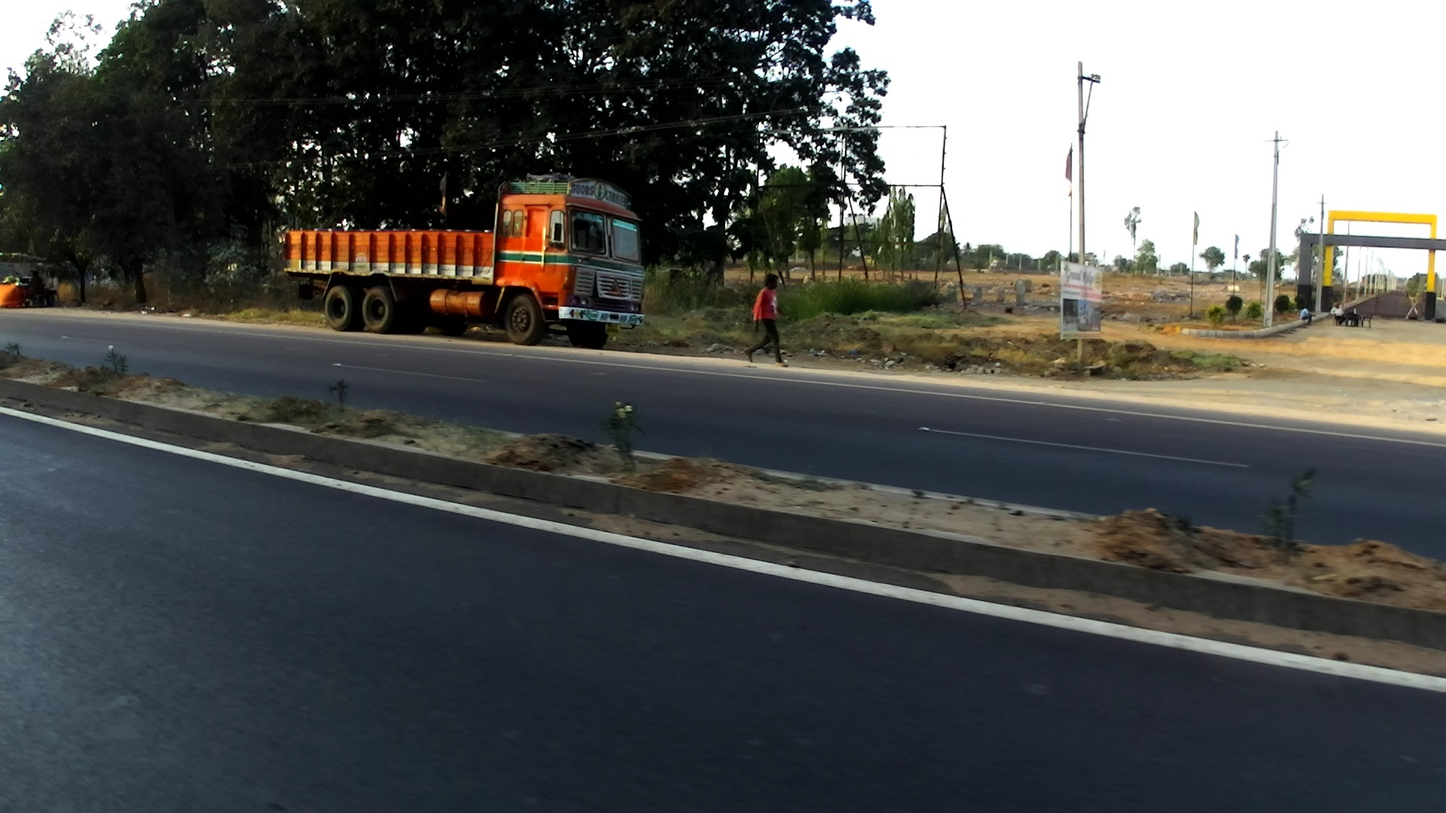person: (744, 271, 792, 367), (44, 269, 57, 309), (1299, 303, 1316, 327), (1329, 301, 1346, 325)
rider: (23, 269, 47, 309)
truck: (282, 172, 649, 347)
vehicle fallback: (1, 251, 50, 309)
